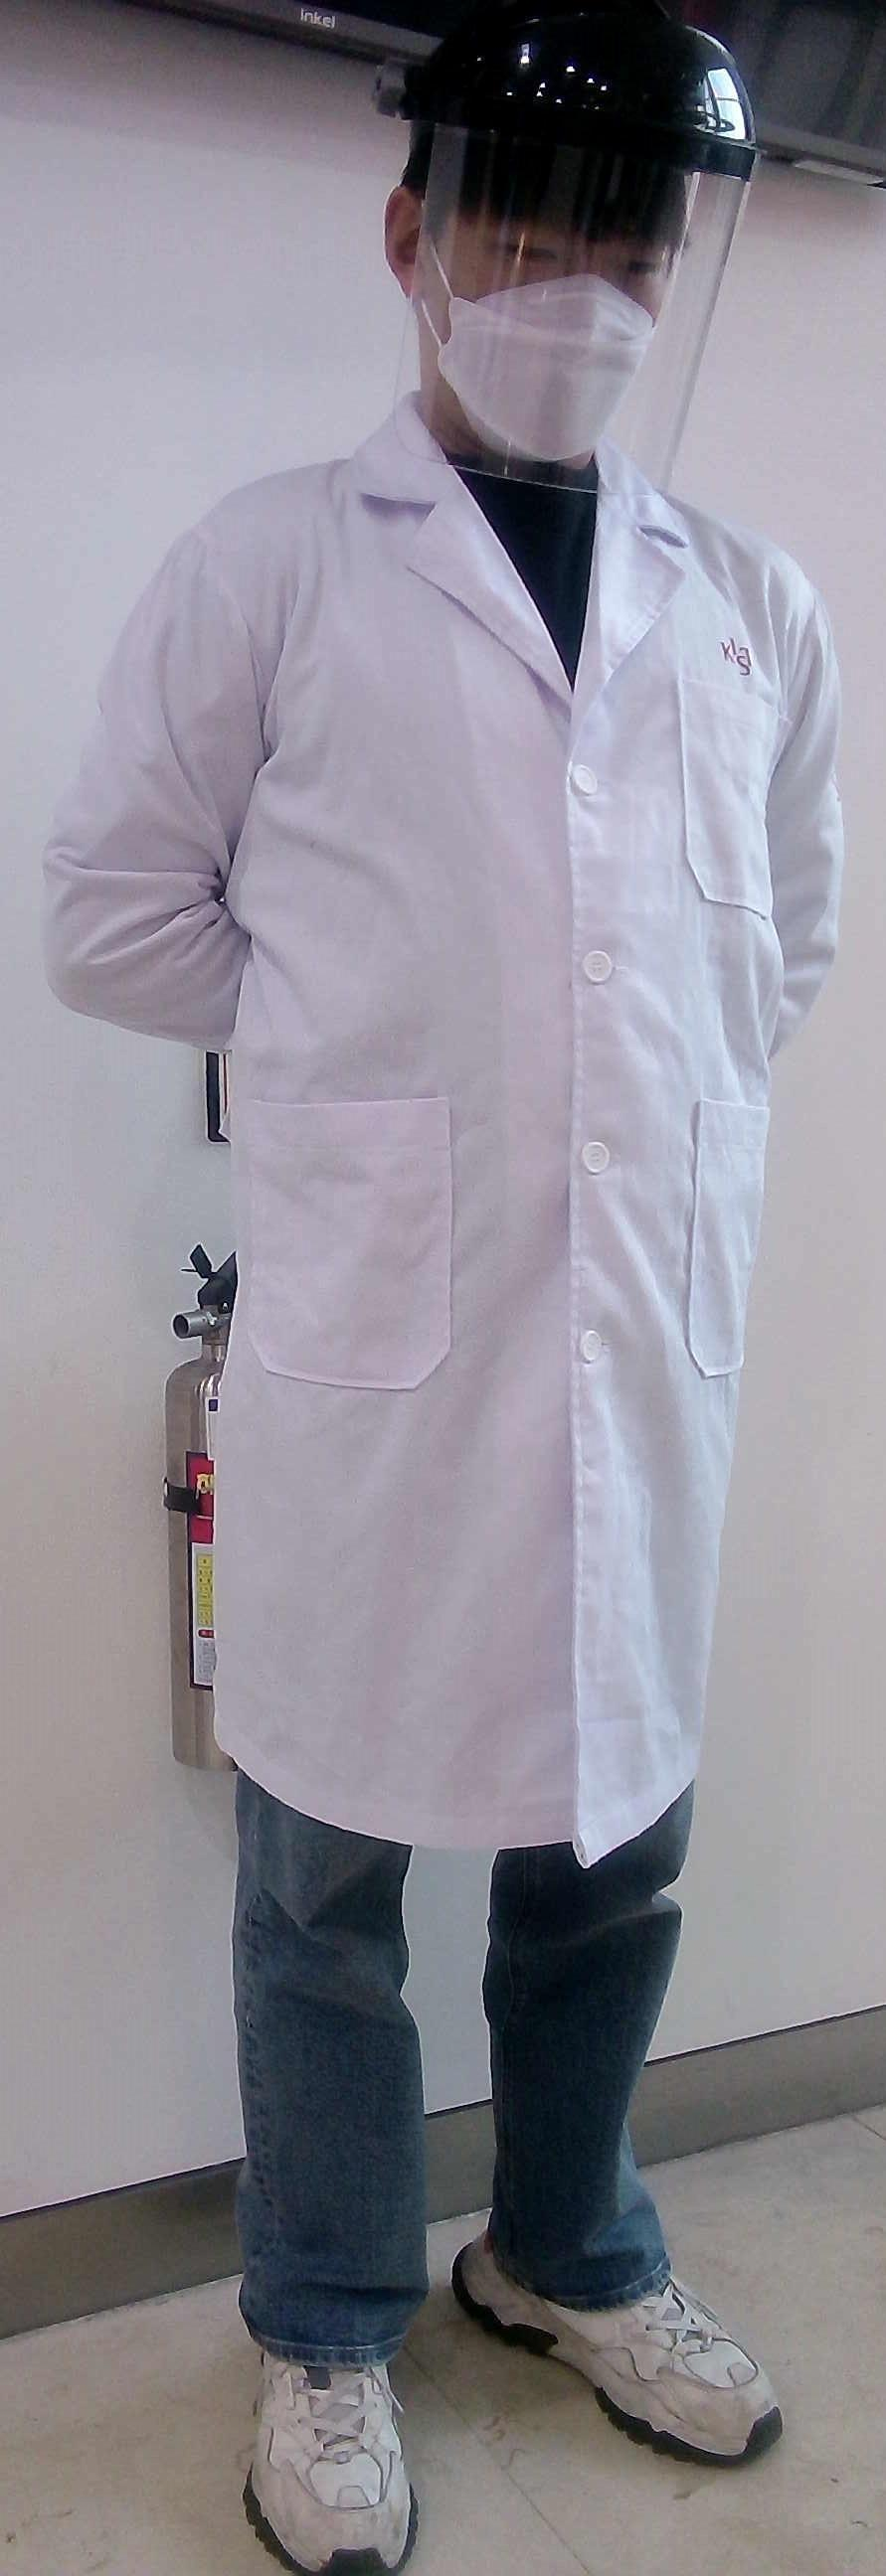lab_coat: (41, 468, 861, 1837)
